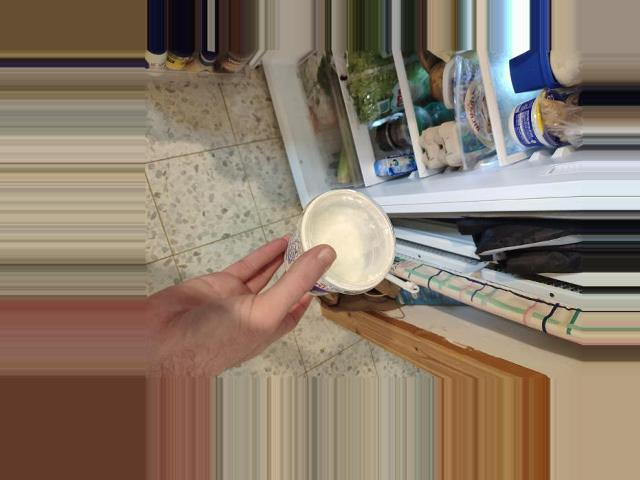cotage: (280, 199, 402, 294)
